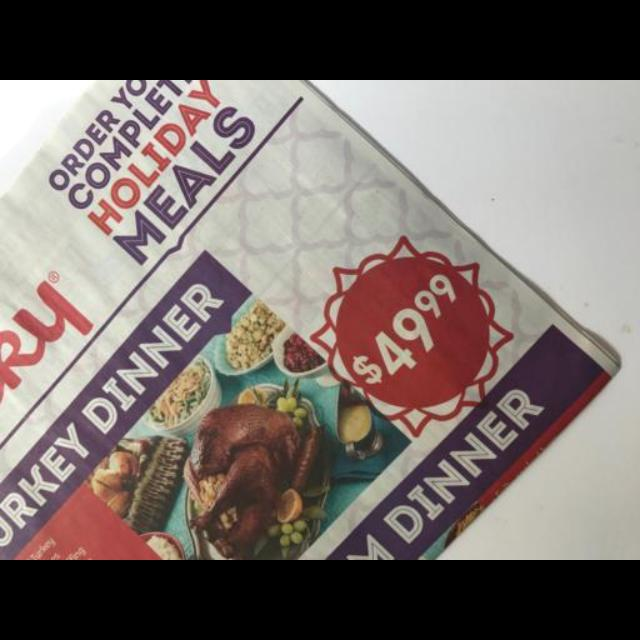papel: (1, 80, 624, 560)
